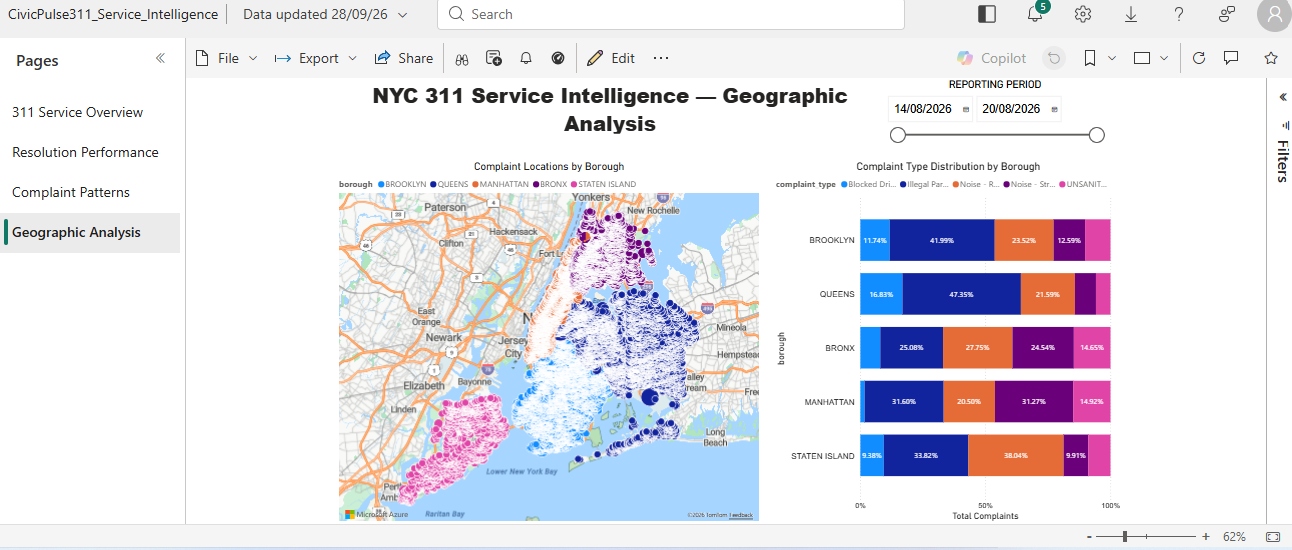

The page's visual inventory and layout, read from the dashboard file:
{"tool":"powerbi","page":{"name":"Geographic Analysis","canvas":[1280,720],"ordinal":3},"visuals":[{"type":"azureMap","title":"Complaint Locations by Borough","fields":{"Y":["civicpulse311_powerbi.latitude"],"X":["civicpulse311_powerbi.longitude"],"Series":["civicpulse311_powerbi.borough"],"Size":["civicpulse311_powerbi.Total Complaints"]},"box":[9.8,131.7,687.8,587.8],"z":0},{"type":"hundredPercentStackedBarChart","title":"Complaint Type Distribution by Borough","fields":{"Category":["civicpulse311_powerbi.borough"],"Y":["civicpulse311_powerbi.Total Complaints"],"Series":["civicpulse311_powerbi.complaint_type"]},"box":[714.6,131.7,565.9,587.8],"z":1000},{"type":"textbox","box":[9.8,0,892.7,95.1],"z":2000},{"type":"slicer","title":"REPORTING PERIOD","fields":{"Values":["civicpulse311_powerbi.created_date"]},"box":[887.8,0,370.7,112.2],"z":3000}]}

Visuals, with their boxes on the page's 1280x720 design canvas (x1, y1, x2, y2). These are canvas units, not pixel positions in the 1292x550 screenshot, which may show the page scaled, cropped or inside an application window:
"Complaint Locations by Borough" azureMap: 10,132,698,720
"Complaint Type Distribution by Borough" hundredPercentStackedBarChart: 715,132,1280,720
textbox: 10,0,902,95
"REPORTING PERIOD" slicer: 888,0,1258,112
